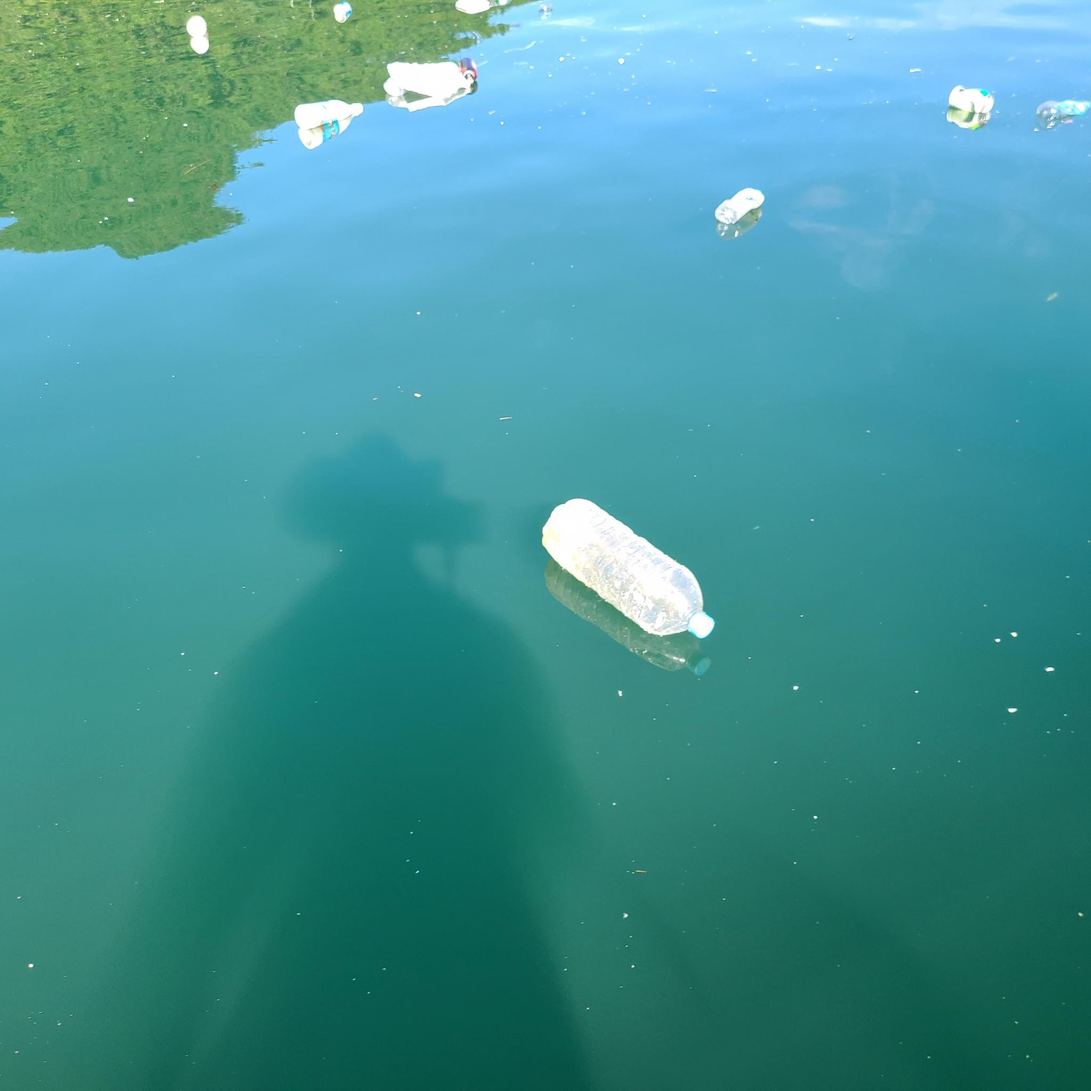sampah_terapung: (541, 499, 715, 639), (387, 62, 471, 98), (295, 100, 364, 130), (714, 188, 766, 225), (949, 86, 995, 114), (1036, 101, 1091, 120), (455, 1, 491, 15), (384, 77, 409, 97), (460, 58, 478, 85), (335, 3, 353, 16)
